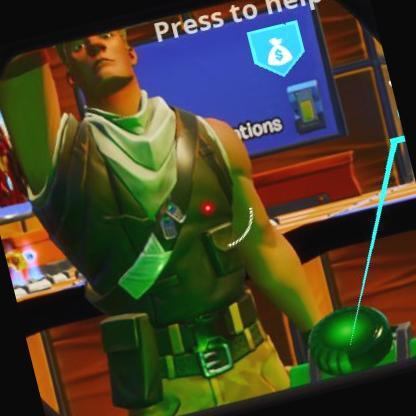person: (38, 8, 284, 386)
